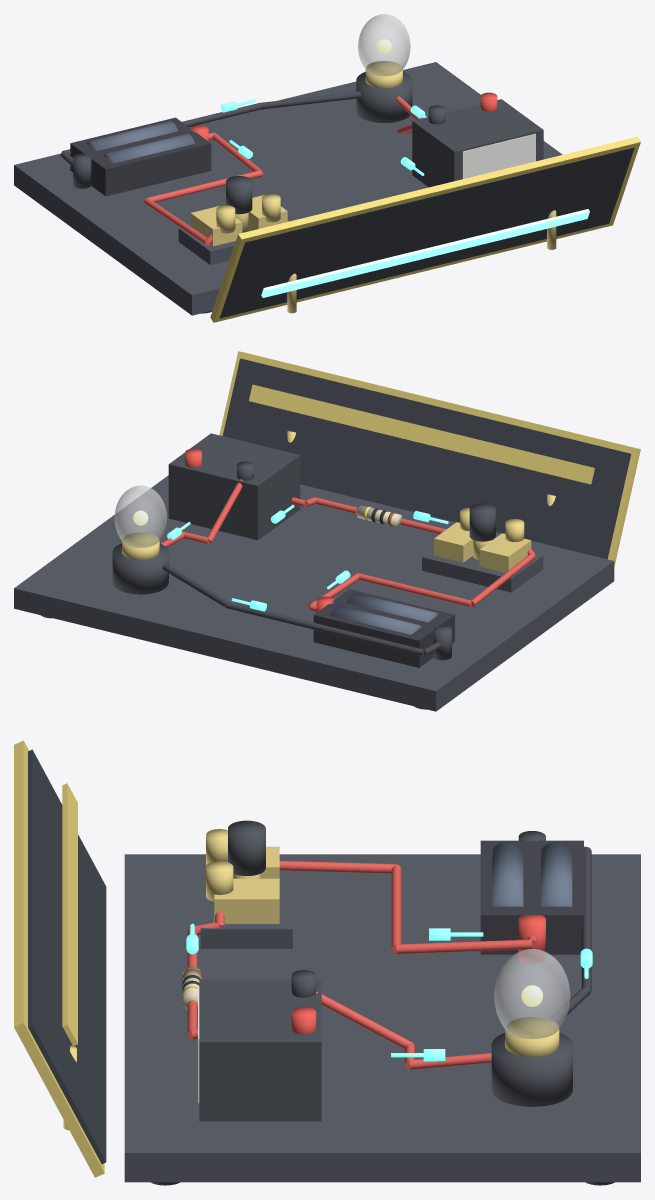
Rendered from full-circuit.glb.
3 views of the same model, one above another, from view 1: azimuth 30°, elevation 25°; view 2: azimuth 150°, elevation 25°; view 3: azimuth 270°, elevation 25° (orthographic). The views are drawn at different scales.
Parts seen in each view (by area): view 1: full-circuit_Board, Sec_Plaque_Board, Sec_Plaque_Frame, full-circuit_Amm_Body, full-circuit_Batt_Holder, Sec_Plaque_Bar_Series, full-circuit_Bulb_Glass, full-circuit_Bulb_Glass.001, full-circuit_Amm_Dial, full-circuit_Bulb_Socket, full-circuit_Cell_1, full-circuit_Cell_0 (+12 smaller); view 2: full-circuit_Board, Sec_Plaque_Board, full-circuit_Amm_Body, Sec_Plaque_Title, full-circuit_Batt_Holder, Sec_Plaque_Frame, full-circuit_Bulb_Glass, full-circuit_Bulb_Glass.001, full-circuit_Key_Plinth, full-circuit_Bulb_Socket, full-circuit_Key_Block_0, full-circuit_Key_Block_1 (+9 smaller); view 3: full-circuit_Board, Sec_Plaque_Board, full-circuit_Amm_Body, full-circuit_Batt_Holder, Sec_Plaque_Frame, full-circuit_Bulb_Glass, full-circuit_Bulb_Glass.001, full-circuit_Bulb_Socket, Sec_Plaque_Title, full-circuit_Key_Plinth, full-circuit_Key_Block_1, full-circuit_Cell_1 (+14 smaller).
Boxes of the visible parts, x1,y1,x2,y2 form: full-circuit_Board: (14, 62, 562, 315); Sec_Plaque_Board: (219, 147, 634, 318); Sec_Plaque_Frame: (210, 136, 640, 322); full-circuit_Amm_Body: (412, 99, 543, 187); full-circuit_Batt_Holder: (70, 117, 211, 196); Sec_Plaque_Bar_Series: (261, 209, 589, 297); full-circuit_Bulb_Glass: (358, 14, 410, 75); full-circuit_Bulb_Glass.001: (358, 14, 410, 75); full-circuit_Amm_Dial: (462, 133, 535, 178); full-circuit_Bulb_Socket: (356, 72, 412, 122); full-circuit_Cell_1: (86, 121, 177, 150); full-circuit_Cell_0: (103, 133, 194, 163); full-circuit_Board: (14, 475, 614, 711); Sec_Plaque_Board: (222, 358, 631, 559); full-circuit_Amm_Body: (168, 433, 300, 540); Sec_Plaque_Title: (249, 384, 594, 484); full-circuit_Batt_Holder: (313, 589, 454, 667); Sec_Plaque_Frame: (219, 351, 640, 566); full-circuit_Bulb_Glass: (115, 486, 166, 547); full-circuit_Bulb_Glass.001: (115, 486, 166, 547); full-circuit_Key_Plinth: (422, 549, 543, 592); full-circuit_Bulb_Socket: (112, 543, 168, 594); full-circuit_Key_Block_0: (479, 533, 531, 572); full-circuit_Key_Block_1: (434, 522, 473, 562); full-circuit_Board: (124, 854, 640, 1182); Sec_Plaque_Board: (28, 749, 106, 1163); full-circuit_Amm_Body: (199, 979, 321, 1121); full-circuit_Batt_Holder: (480, 840, 583, 954); Sec_Plaque_Frame: (14, 740, 104, 1177); full-circuit_Bulb_Glass: (494, 949, 569, 1038); full-circuit_Bulb_Glass.001: (494, 949, 569, 1038); full-circuit_Bulb_Socket: (491, 1032, 572, 1106); Sec_Plaque_Title: (62, 783, 77, 1046); full-circuit_Key_Plinth: (200, 866, 292, 948); full-circuit_Key_Block_1: (214, 878, 279, 923); full-circuit_Cell_1: (541, 842, 572, 906).
Bounding box in the file's own units: 0.26 × 0.073 × 0.2307.
